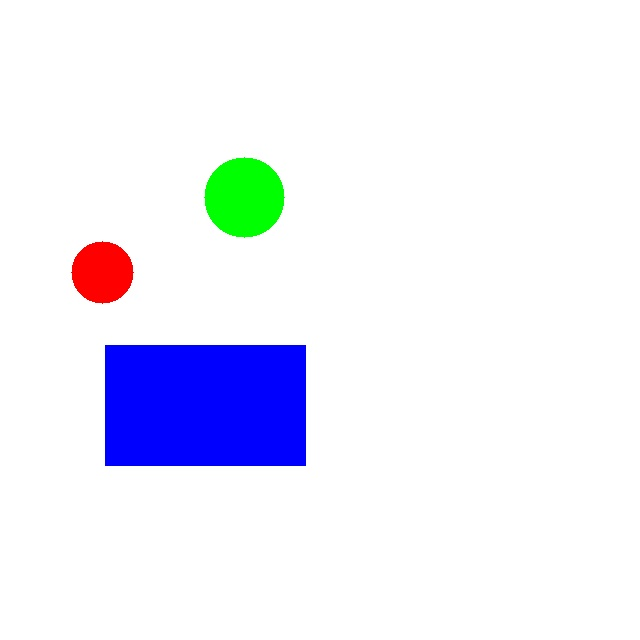cartao: (105, 345, 305, 465)
rosca_externa: (204, 157, 284, 237)
rosca_interna: (71, 241, 133, 303)
